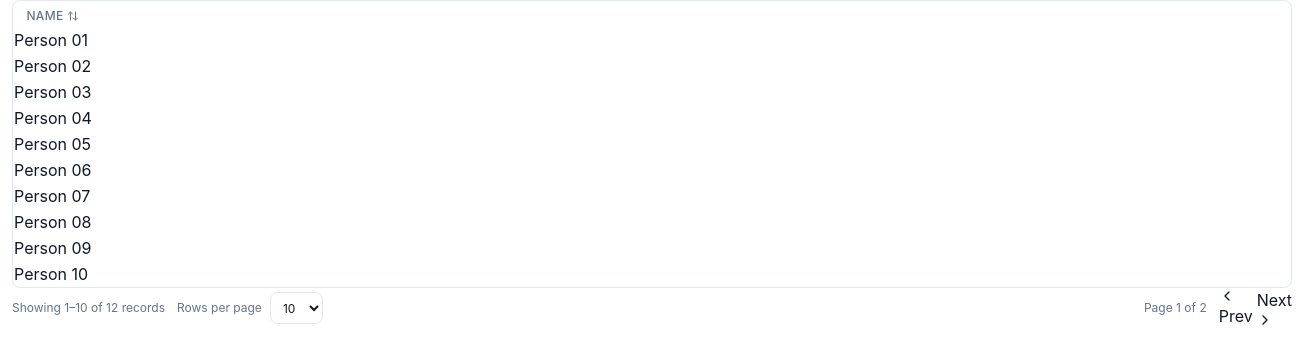
Test: DataTable states › sorts columns and paginates larger result sets
The image size is (1304, 345).
Check: the text "Showing 1–10 of 12 records" is shown, box [12,300,165,316]
Click the button "Name": click(53, 16) [26,8,80,24]
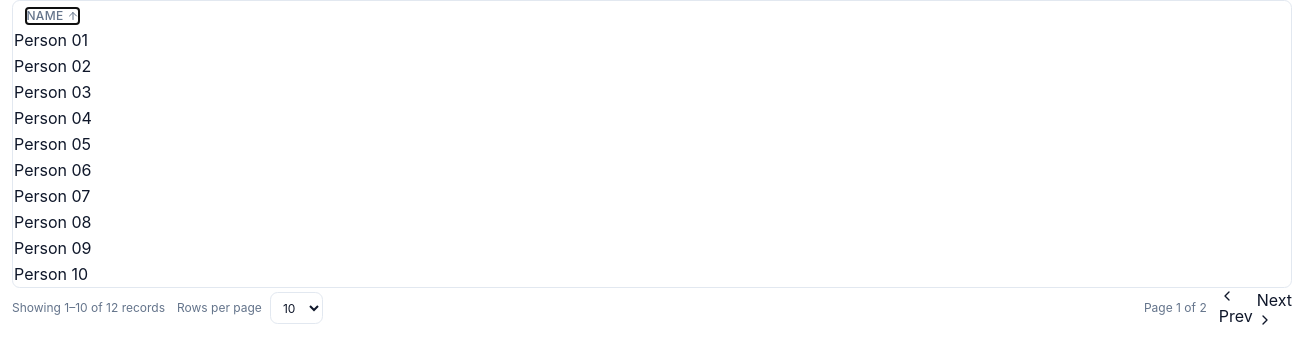
Check: the row "Person 01" is shown, box [13,27,93,53]
Click the button with aria-label "next page": click(1274, 308) [1257,288,1292,328]
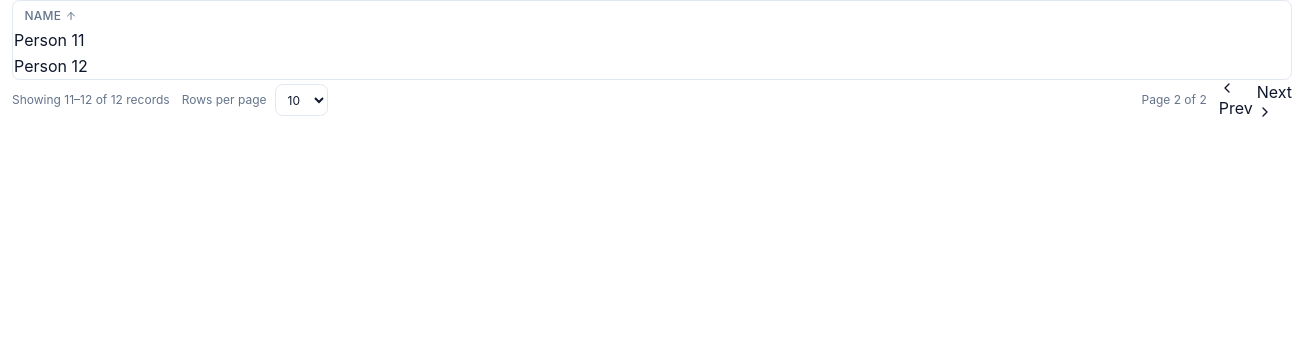
Check: the text "Showing 11–12 of 12 records" is shown, box [12,92,170,108]
Check: the text "Person 11" is shown, box [13,27,89,53]
